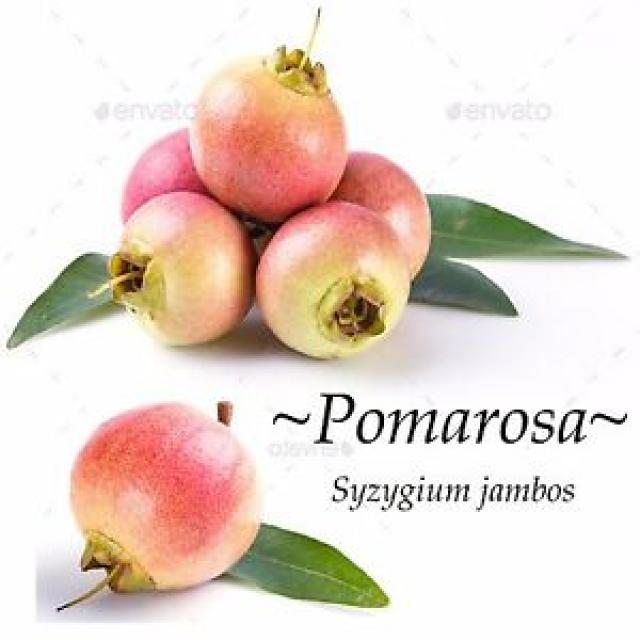Medicinal-Rose Apple: (9, 20, 630, 373), (38, 404, 356, 602)
